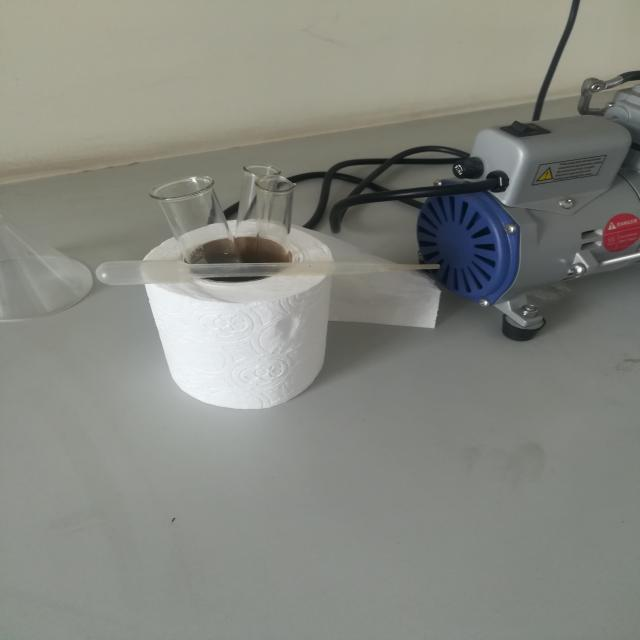Pipette: (87, 240, 450, 298)
